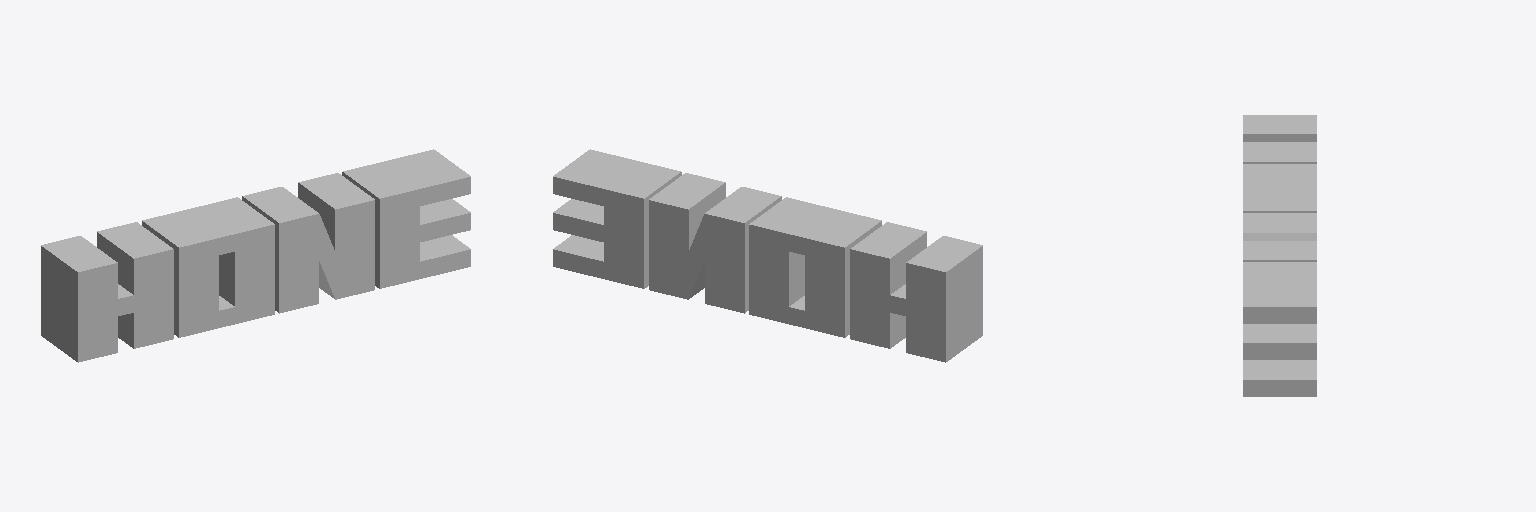
File: Ресурс 2.obj
The picture shows the model from 3 angles: view 1: azimuth 30°, elevation 25°; view 2: azimuth 150°, elevation 25°; view 3: azimuth 270°, elevation 25°; orthographic projection.
Parts seen in each view (by area): view 1: groupNumber_2, groupNumber_0, groupNumber_1, groupNumber_3; view 2: groupNumber_2, groupNumber_0, groupNumber_1, groupNumber_3; view 3: groupNumber_3, groupNumber_0, groupNumber_1, groupNumber_2.
Part boxes in pixels (left/top/right/bottom): groupNumber_2: left=41, top=222, right=173, bottom=362; groupNumber_0: left=142, top=197, right=274, bottom=337; groupNumber_1: left=242, top=173, right=374, bottom=313; groupNumber_3: left=342, top=149, right=470, bottom=288; groupNumber_2: left=850, top=222, right=982, bottom=362; groupNumber_0: left=749, top=197, right=881, bottom=337; groupNumber_1: left=649, top=173, right=781, bottom=313; groupNumber_3: left=553, top=149, right=681, bottom=288; groupNumber_3: left=1243, top=262, right=1316, bottom=396; groupNumber_0: left=1243, top=164, right=1316, bottom=212; groupNumber_1: left=1243, top=213, right=1316, bottom=261; groupNumber_2: left=1243, top=115, right=1316, bottom=163.
Size of the model in its own units: 61.18 by 13.41 by 10.03.